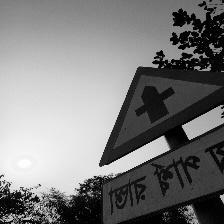Crossroad: (101, 63, 224, 224)
